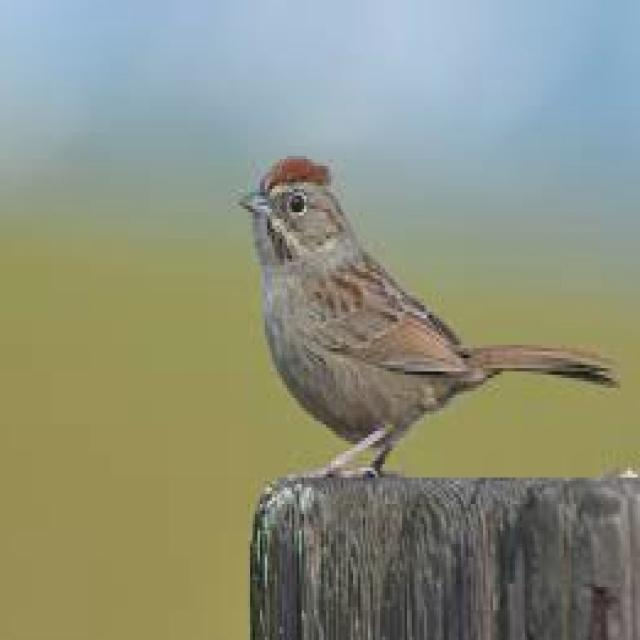sparrow: (243, 156, 618, 474)
